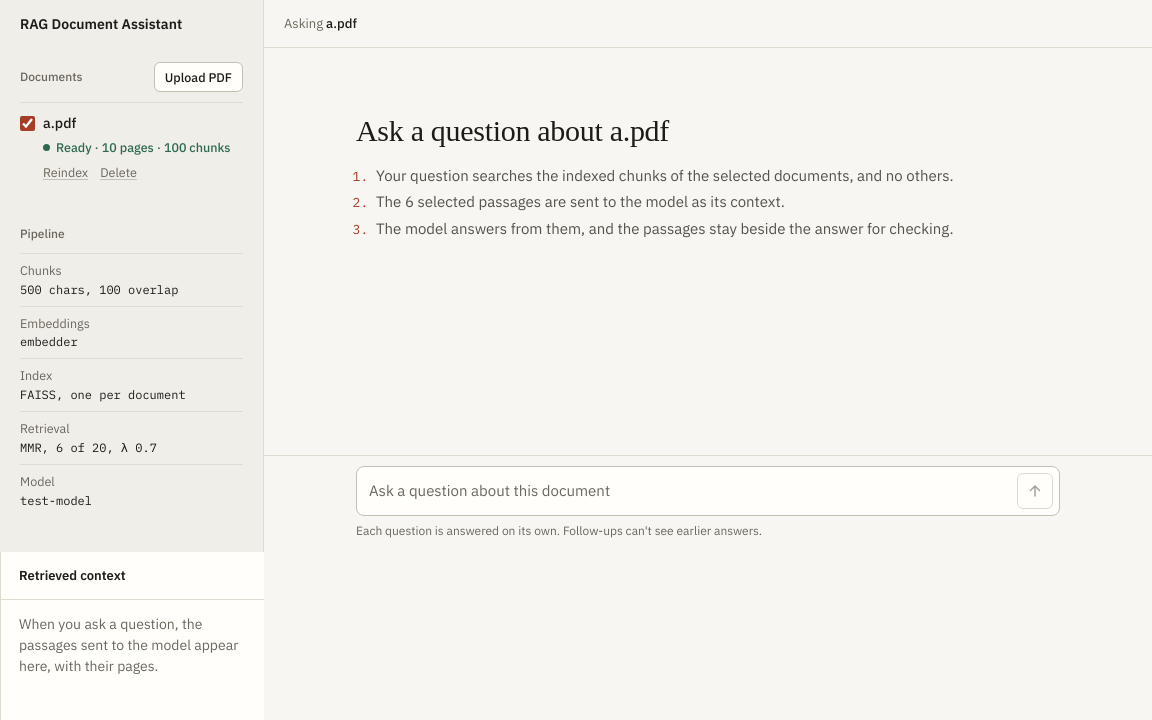
Test case: delete and reindex › shows why a delete failed
The width and height of the screenshot is (1152, 720).
Click the button "Delete" at coordinates (119, 173), box [100, 161, 137, 185]
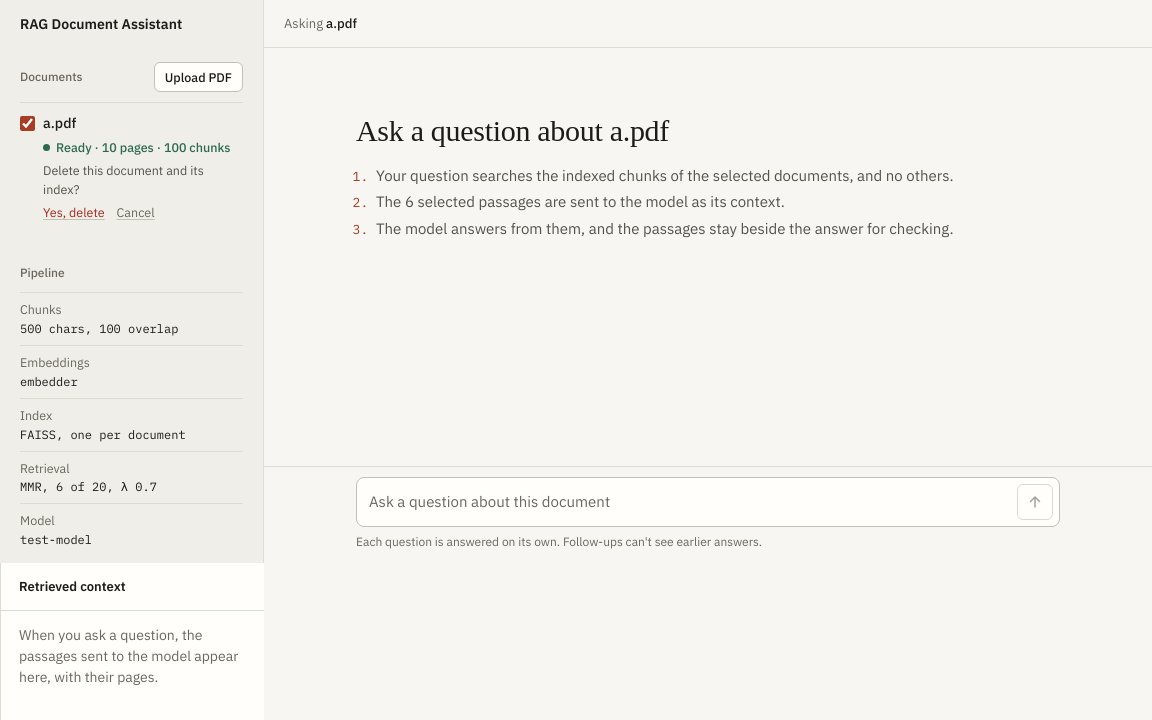
Click the button "Yes, delete" at coordinates (74, 212), box [43, 200, 105, 224]
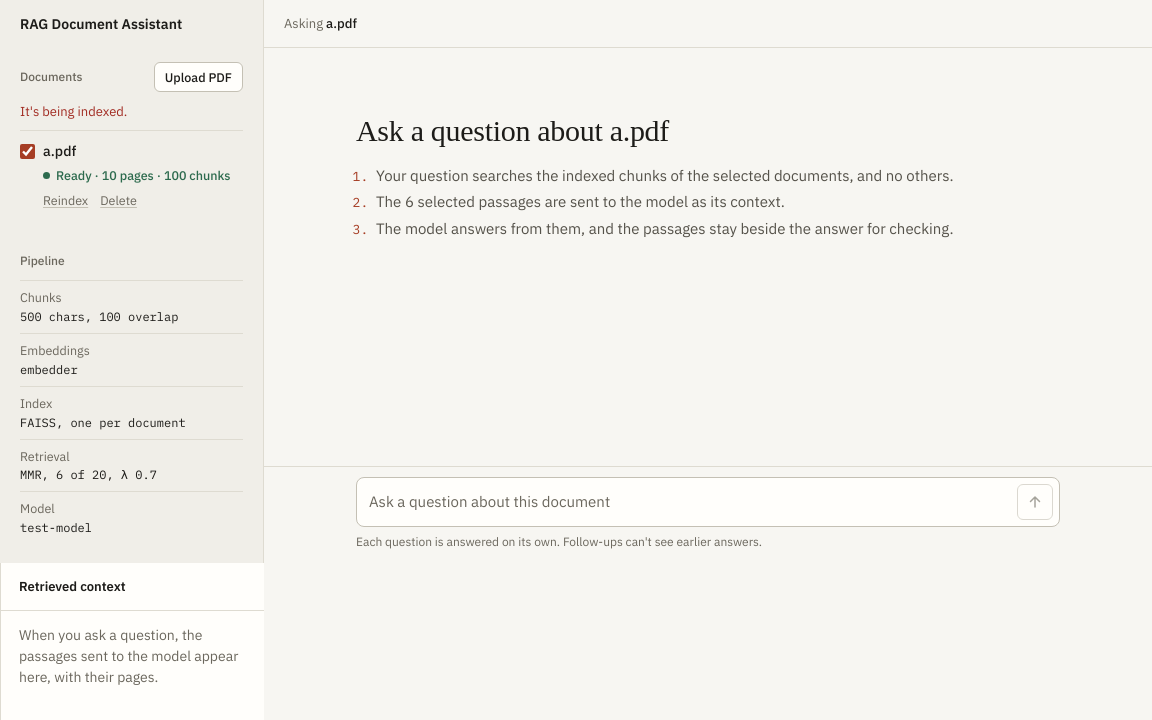
Result: the message reads "It's being indexed." at [20, 103, 127, 120]
